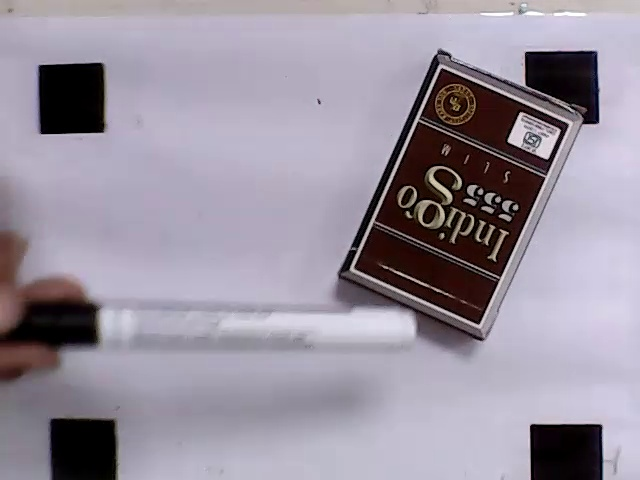BEX: (352, 66, 570, 328)
